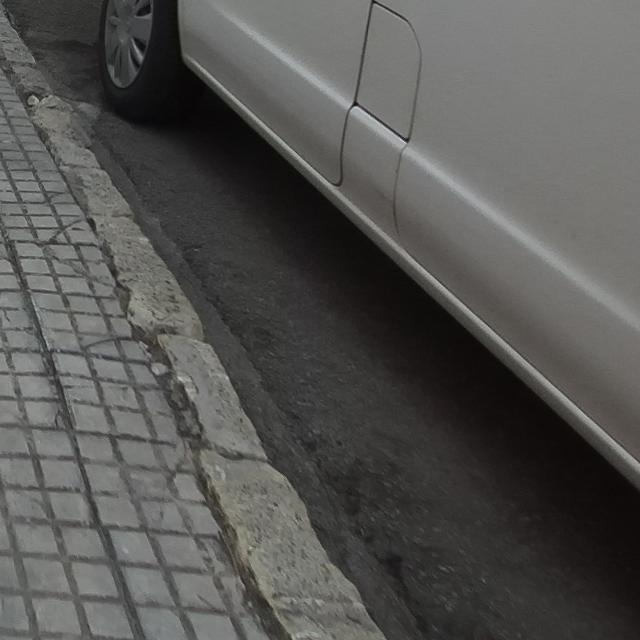calcada_quebrada: (46, 251, 121, 286), (49, 213, 90, 245), (80, 333, 134, 354)
